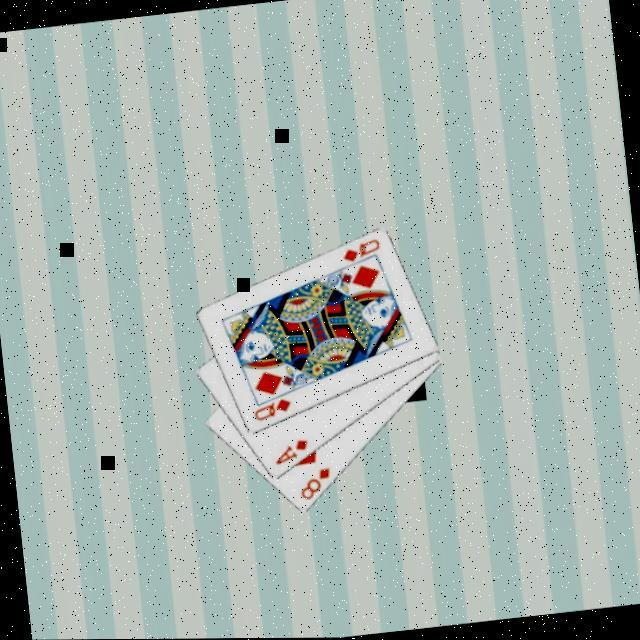8D: (296, 466, 338, 506)
AD: (271, 437, 314, 469)
QD: (340, 237, 386, 267), (252, 396, 297, 426)
